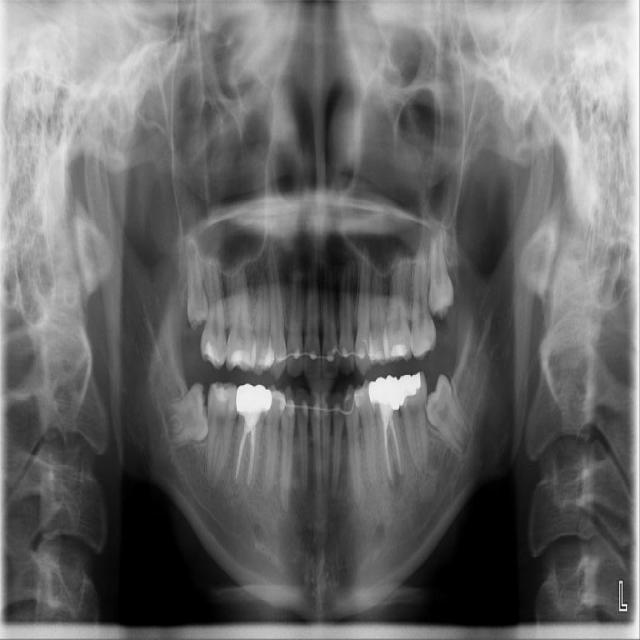Crown: (236, 383, 272, 413), (369, 375, 400, 409)
Filling: (400, 371, 423, 407), (202, 342, 223, 367), (227, 348, 252, 369), (213, 384, 236, 404), (390, 344, 409, 360), (259, 347, 274, 366)
Periapical lesion: (388, 469, 404, 493)
Root Canal Treatment: (235, 424, 251, 485), (385, 415, 394, 477), (391, 415, 400, 474), (248, 431, 257, 469)
impacted tooth: (427, 373, 471, 455), (160, 384, 210, 449), (428, 223, 454, 315), (186, 235, 209, 322)
